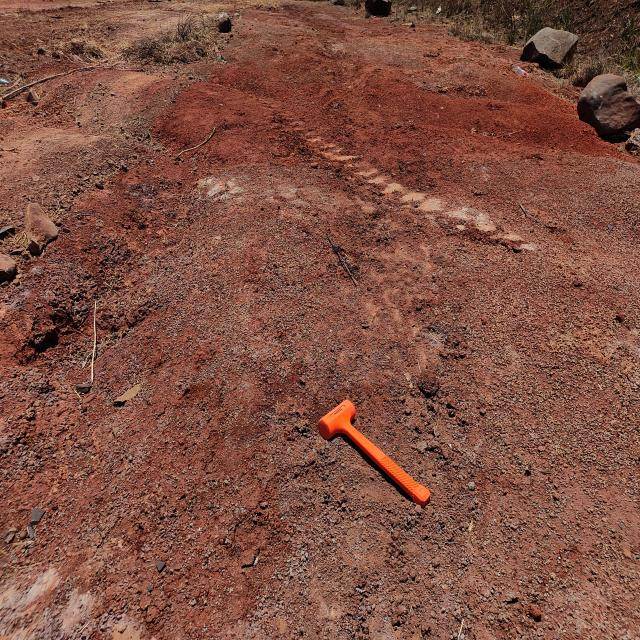Orange_hammer: (317, 398, 431, 508)
